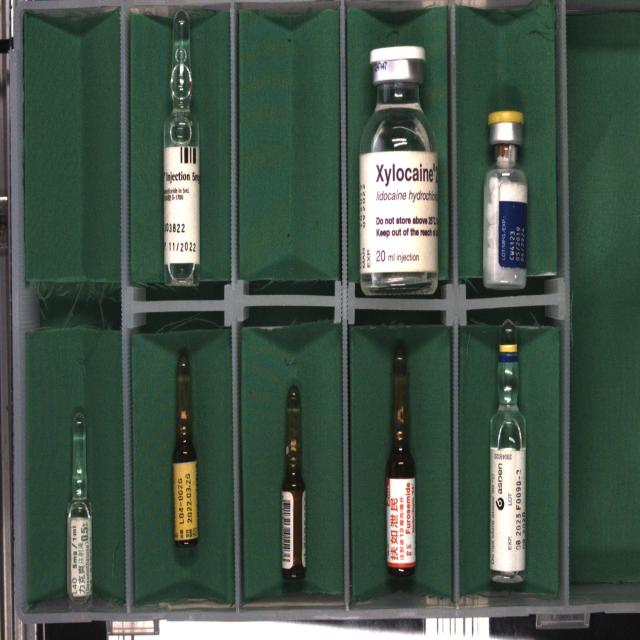Vials: (359, 46, 439, 294), (483, 110, 527, 289)
